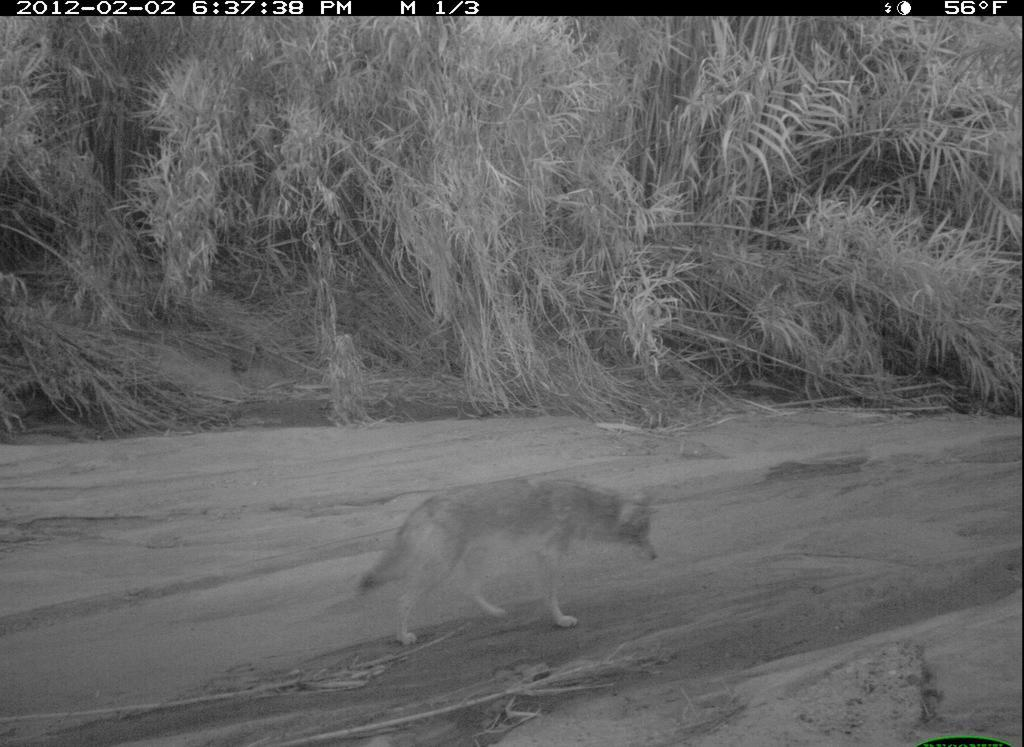coyote: (351, 460, 675, 655)
